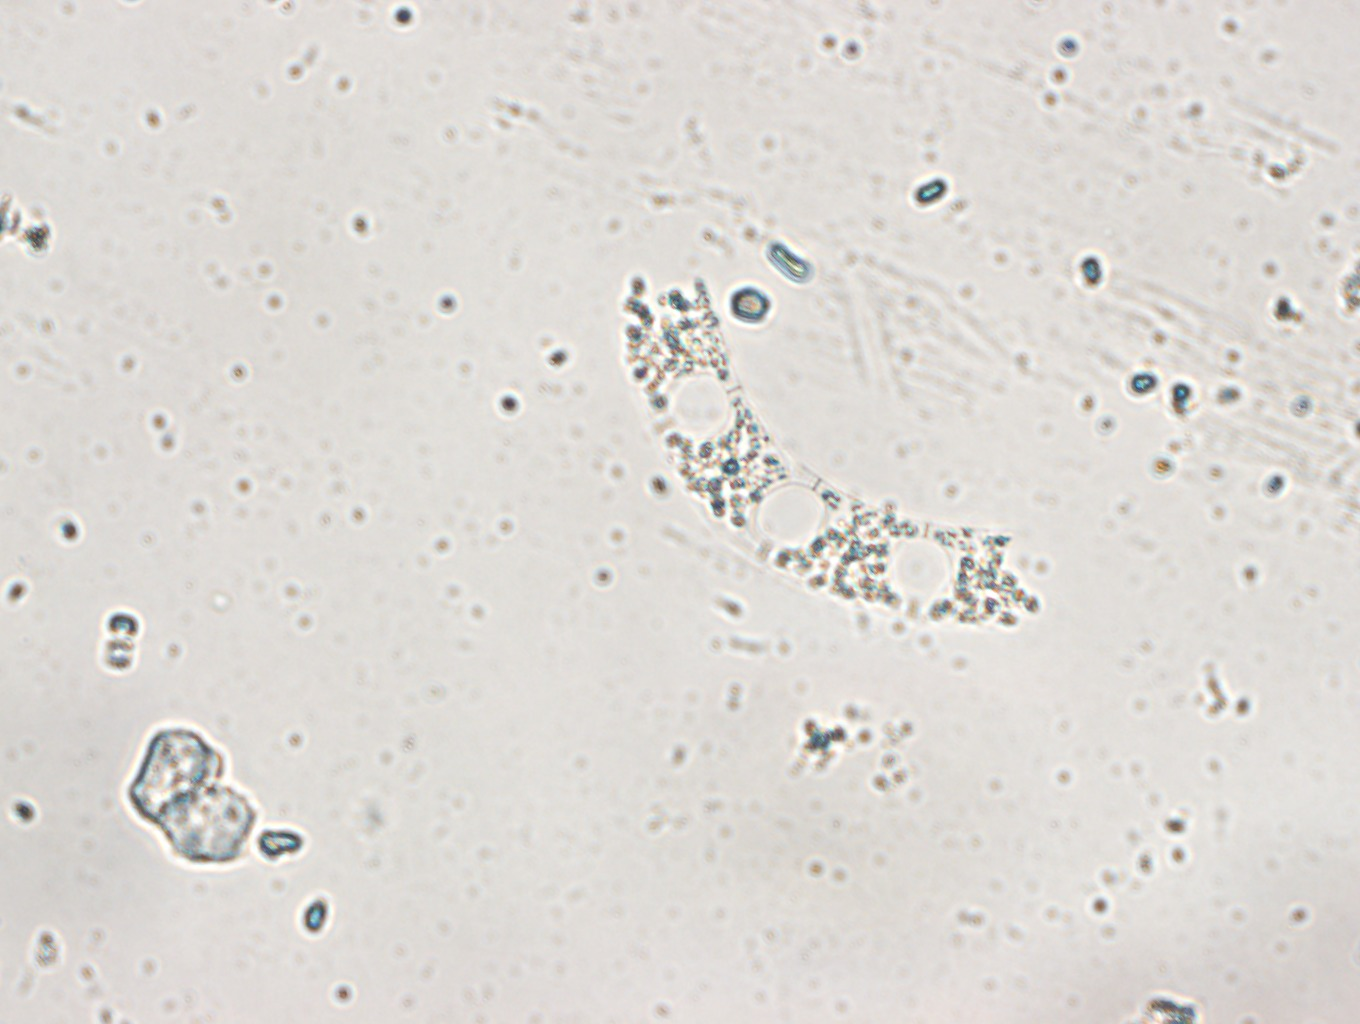eucampia: (613, 284, 1043, 629)
